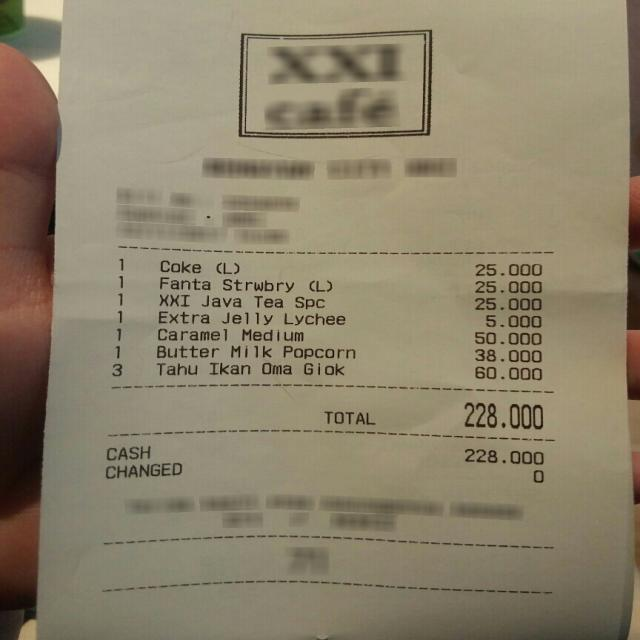kertas: (37, 0, 634, 640)
